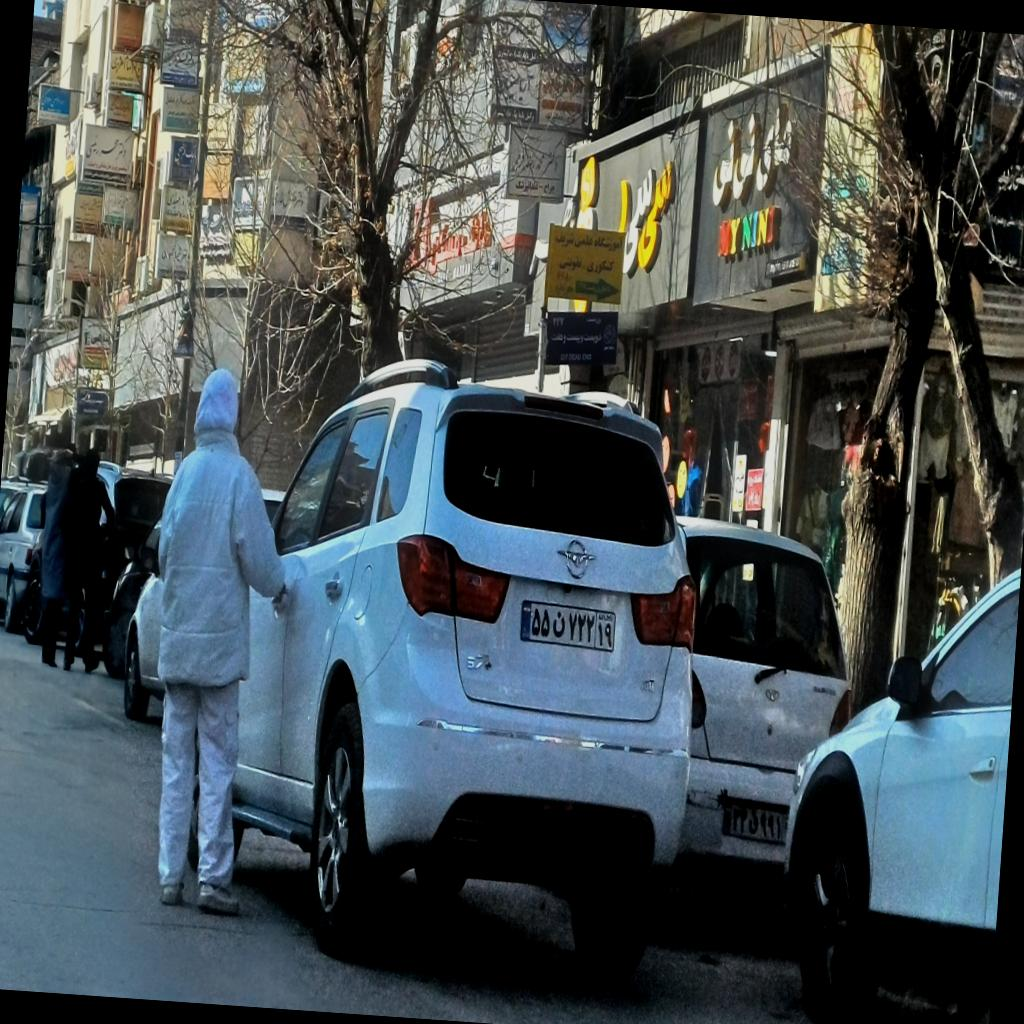Plates: (518, 600, 618, 654)
